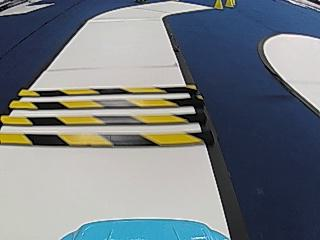bump: (4, 79, 208, 153)
